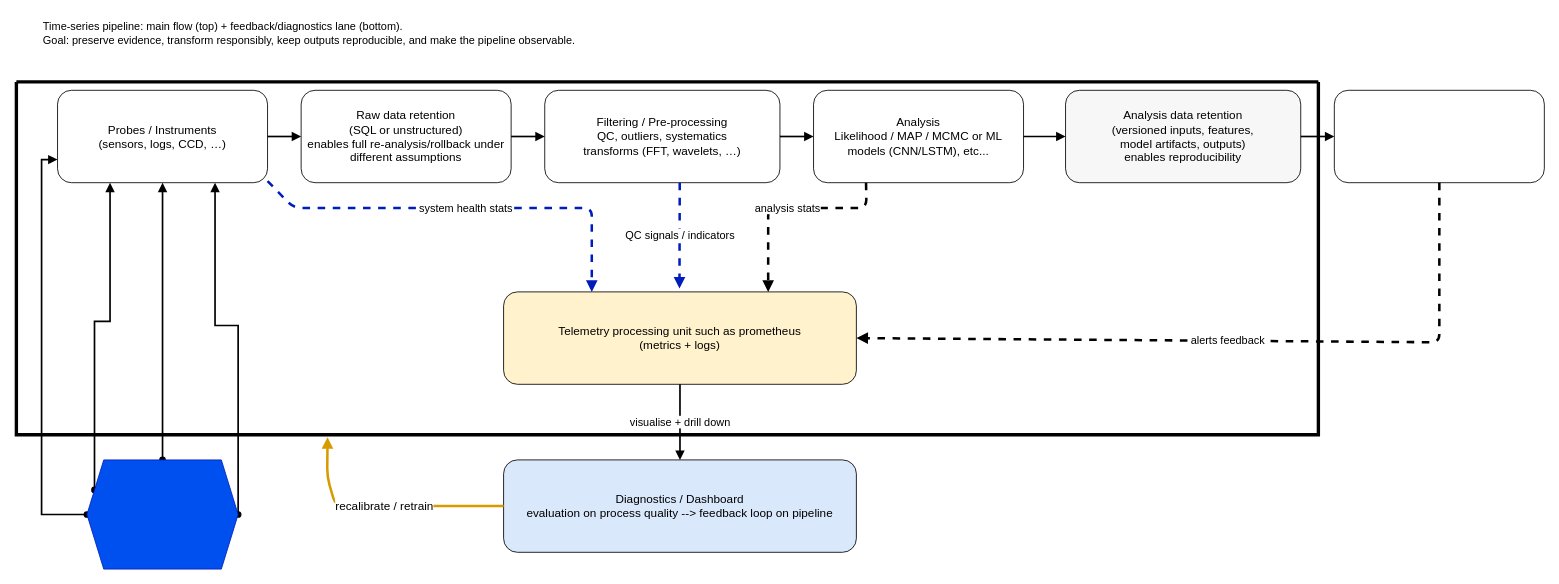
This 1559x584 diagram has some shape labels left out. Here are the shapes that lost their labels. From the top down, the centre of each, then its label:
At (1439,136): "Exploitation Decision / alert / report actionable signal".
At (162,514): "Analysed system".
